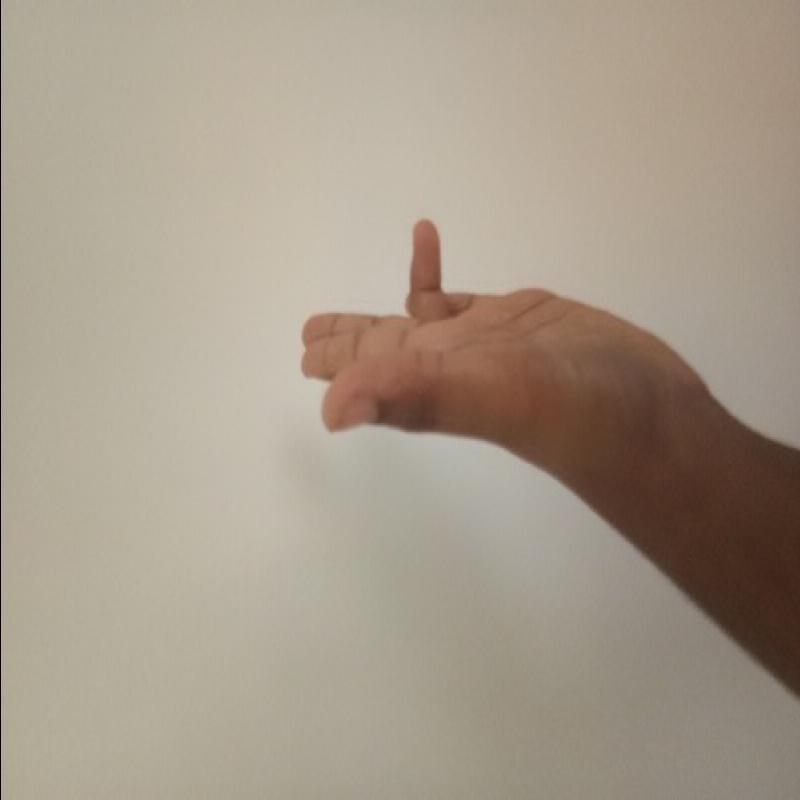Pathaaka: (261, 206, 715, 456)
